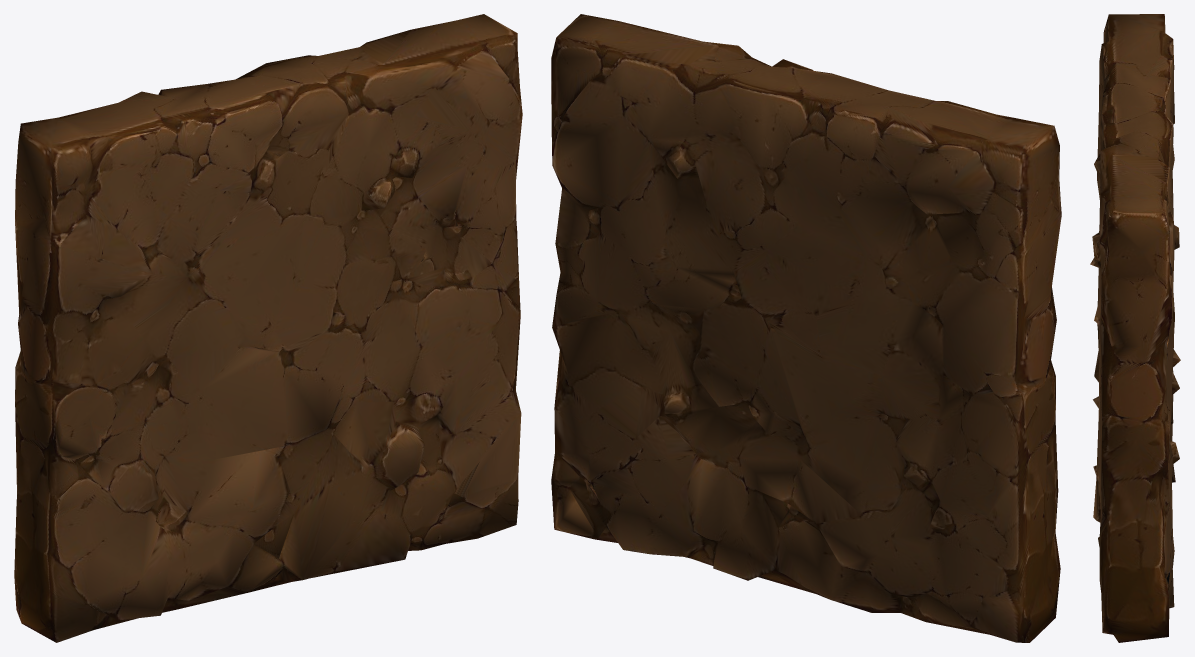
File: baldosa_de_tierra_agrietada.glb
3 views of the same model, side by side, from view 1: azimuth 30°, elevation 25°; view 2: azimuth 150°, elevation 25°; view 3: azimuth 270°, elevation 25° (orthographic). The views are drawn at different scales.
Visible parts, largest first — view 1: baldosa_de_tierra_agrietada; view 2: baldosa_de_tierra_agrietada; view 3: baldosa_de_tierra_agrietada.
Part boxes in pixels (x1,y1,x2,y2): baldosa_de_tierra_agrietada: (14, 14, 522, 642); baldosa_de_tierra_agrietada: (551, 14, 1061, 642); baldosa_de_tierra_agrietada: (1090, 14, 1180, 642).
Size of what is drawn, in the model's own units: 1.19 by 1.19 by 0.2267.
1 material, 1 textured.
